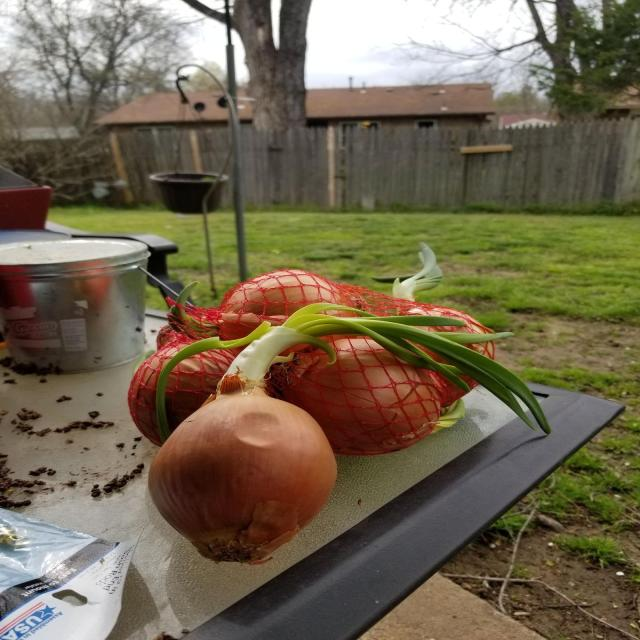sprouting: (137, 232, 518, 571)
